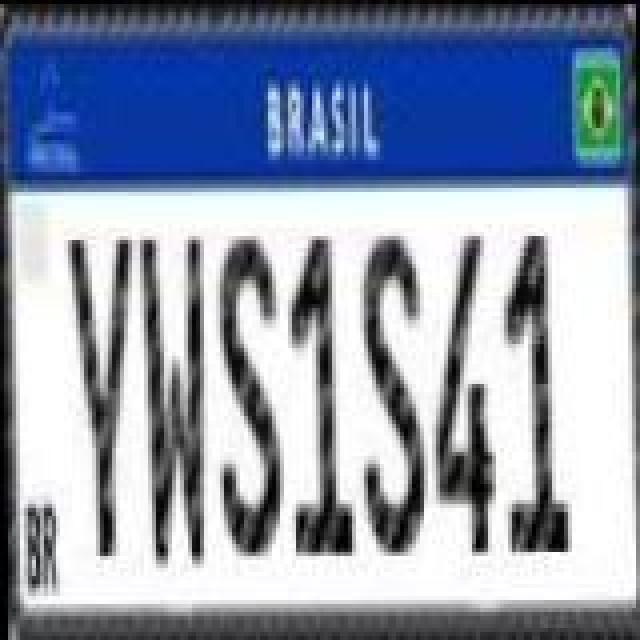1: (284, 226, 356, 562), (502, 224, 570, 560)
4: (426, 230, 494, 554)
S: (216, 234, 288, 558), (358, 230, 426, 554)
W: (136, 226, 208, 562)
Y: (68, 234, 140, 558)
